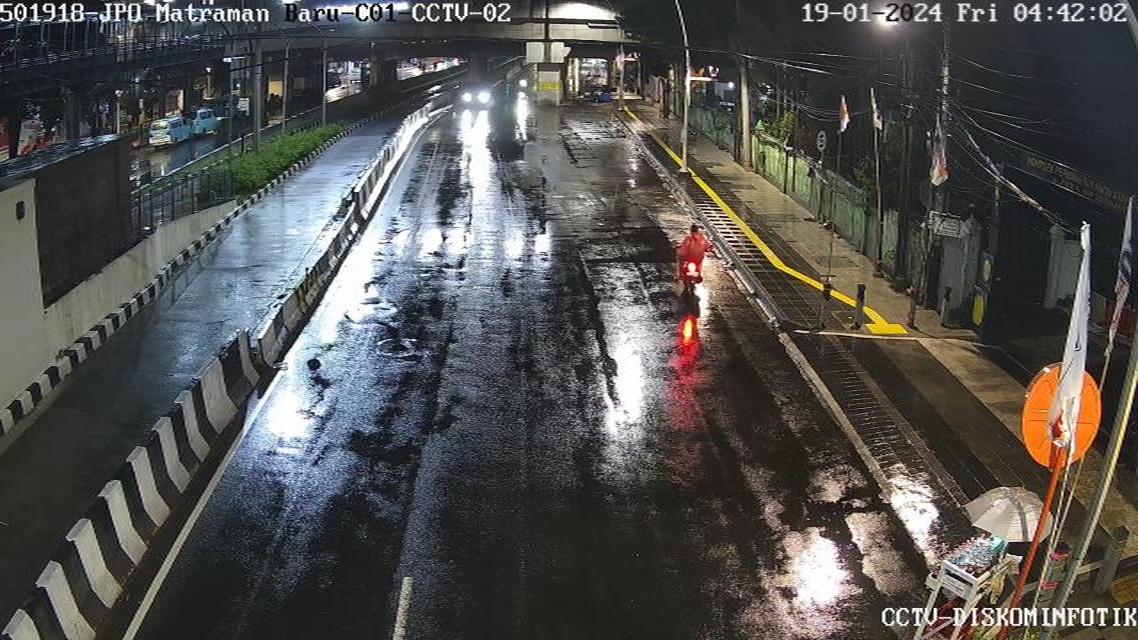Gerobak: (903, 542, 1035, 640)
